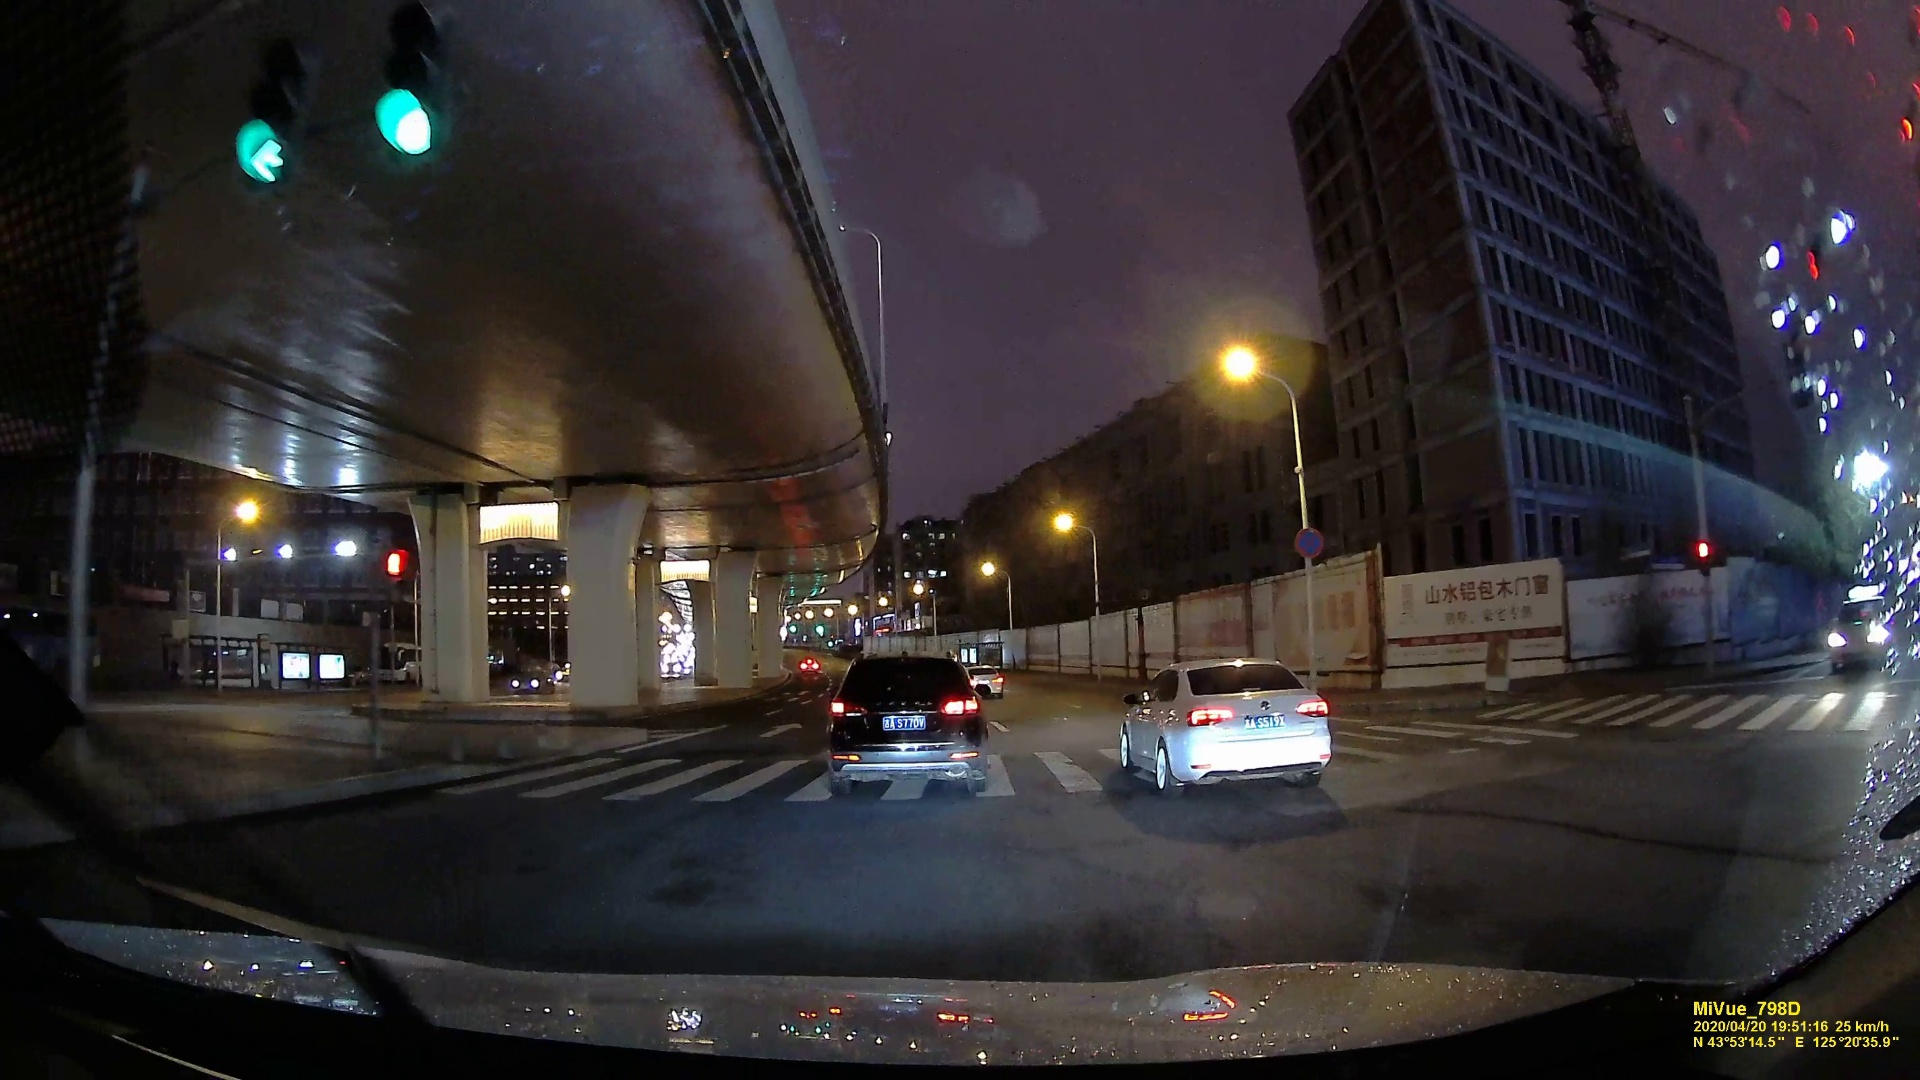minibus: (381, 545, 407, 608)
traffic_sign: (225, 21, 303, 189), (365, 11, 448, 164), (1294, 529, 1325, 559), (1695, 539, 1712, 575)
vehicle: (1116, 654, 1337, 799), (819, 647, 989, 804), (975, 669, 1007, 696), (800, 655, 819, 671)
